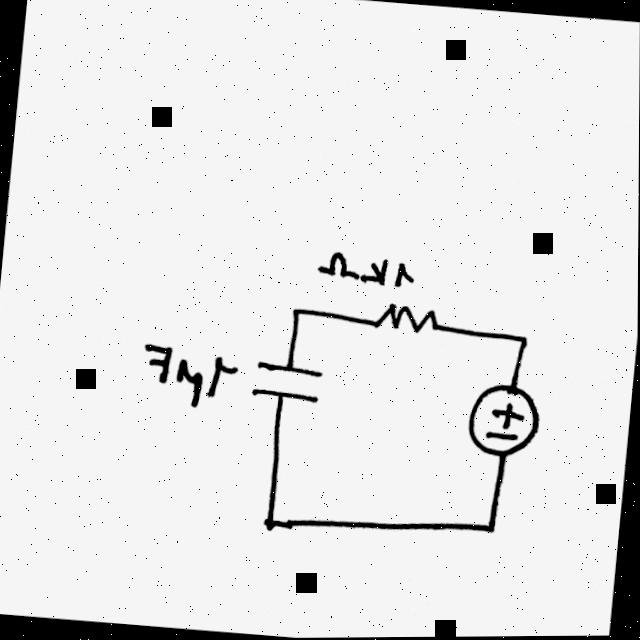capacitor: (246, 355, 330, 410)
junction: (258, 511, 283, 536), (478, 518, 499, 537), (288, 305, 305, 321), (514, 332, 530, 349)
resistor: (368, 298, 447, 342)
source: (461, 379, 547, 465)
text: (129, 340, 244, 413), (314, 244, 417, 294)
